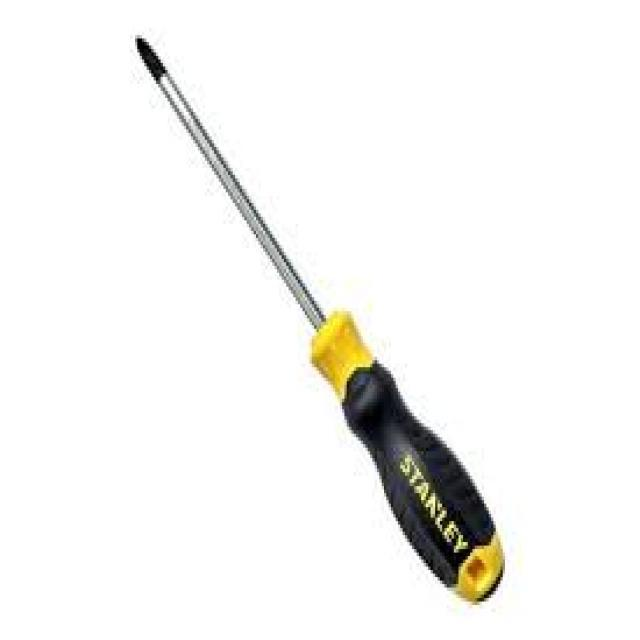screwdriver: (134, 35, 506, 612)
